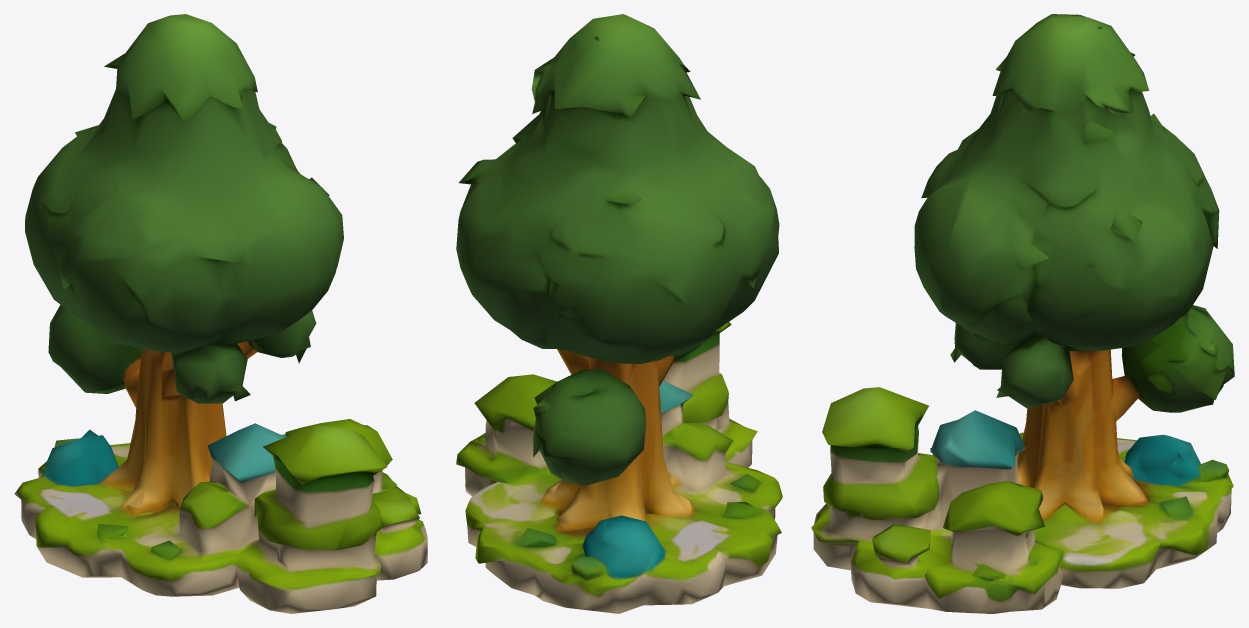
File: textures.glb
The picture shows the model from 3 angles, left to right: view 1: azimuth 30°, elevation 25°; view 2: azimuth 150°, elevation 25°; view 3: azimuth 270°, elevation 25°; orthographic projection. The views are drawn at different scales.
Visible parts, largest first — view 1: tripo_node_995e7322-2ccf-4d51-ab30-aad30b79f1b5; view 2: tripo_node_995e7322-2ccf-4d51-ab30-aad30b79f1b5; view 3: tripo_node_995e7322-2ccf-4d51-ab30-aad30b79f1b5.
Part boxes in pixels (bbox=[...]): tripo_node_995e7322-2ccf-4d51-ab30-aad30b79f1b5: bbox=[14, 14, 427, 613]; tripo_node_995e7322-2ccf-4d51-ab30-aad30b79f1b5: bbox=[456, 14, 782, 613]; tripo_node_995e7322-2ccf-4d51-ab30-aad30b79f1b5: bbox=[811, 14, 1234, 613].
Bounding box in the file's own units: 0.6592 × 1 × 0.7489.
Materials: 1 (1 with a texture image).
